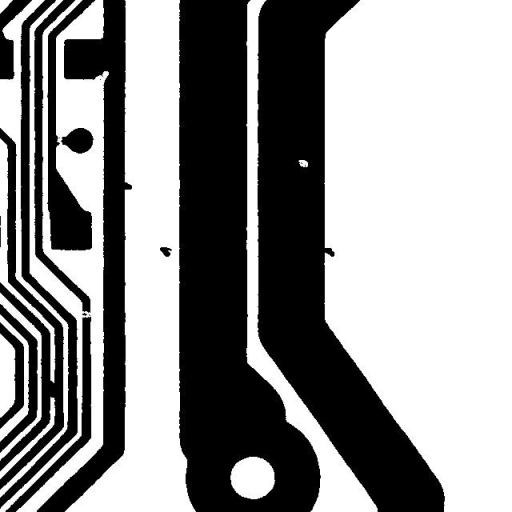copper: (152, 239, 179, 264)
mousebite: (87, 63, 116, 93)
open: (49, 126, 71, 156), (72, 302, 98, 325)
pin-hole: (290, 152, 316, 174)
short: (39, 373, 64, 405)
spur: (312, 240, 342, 264), (111, 174, 139, 197)
